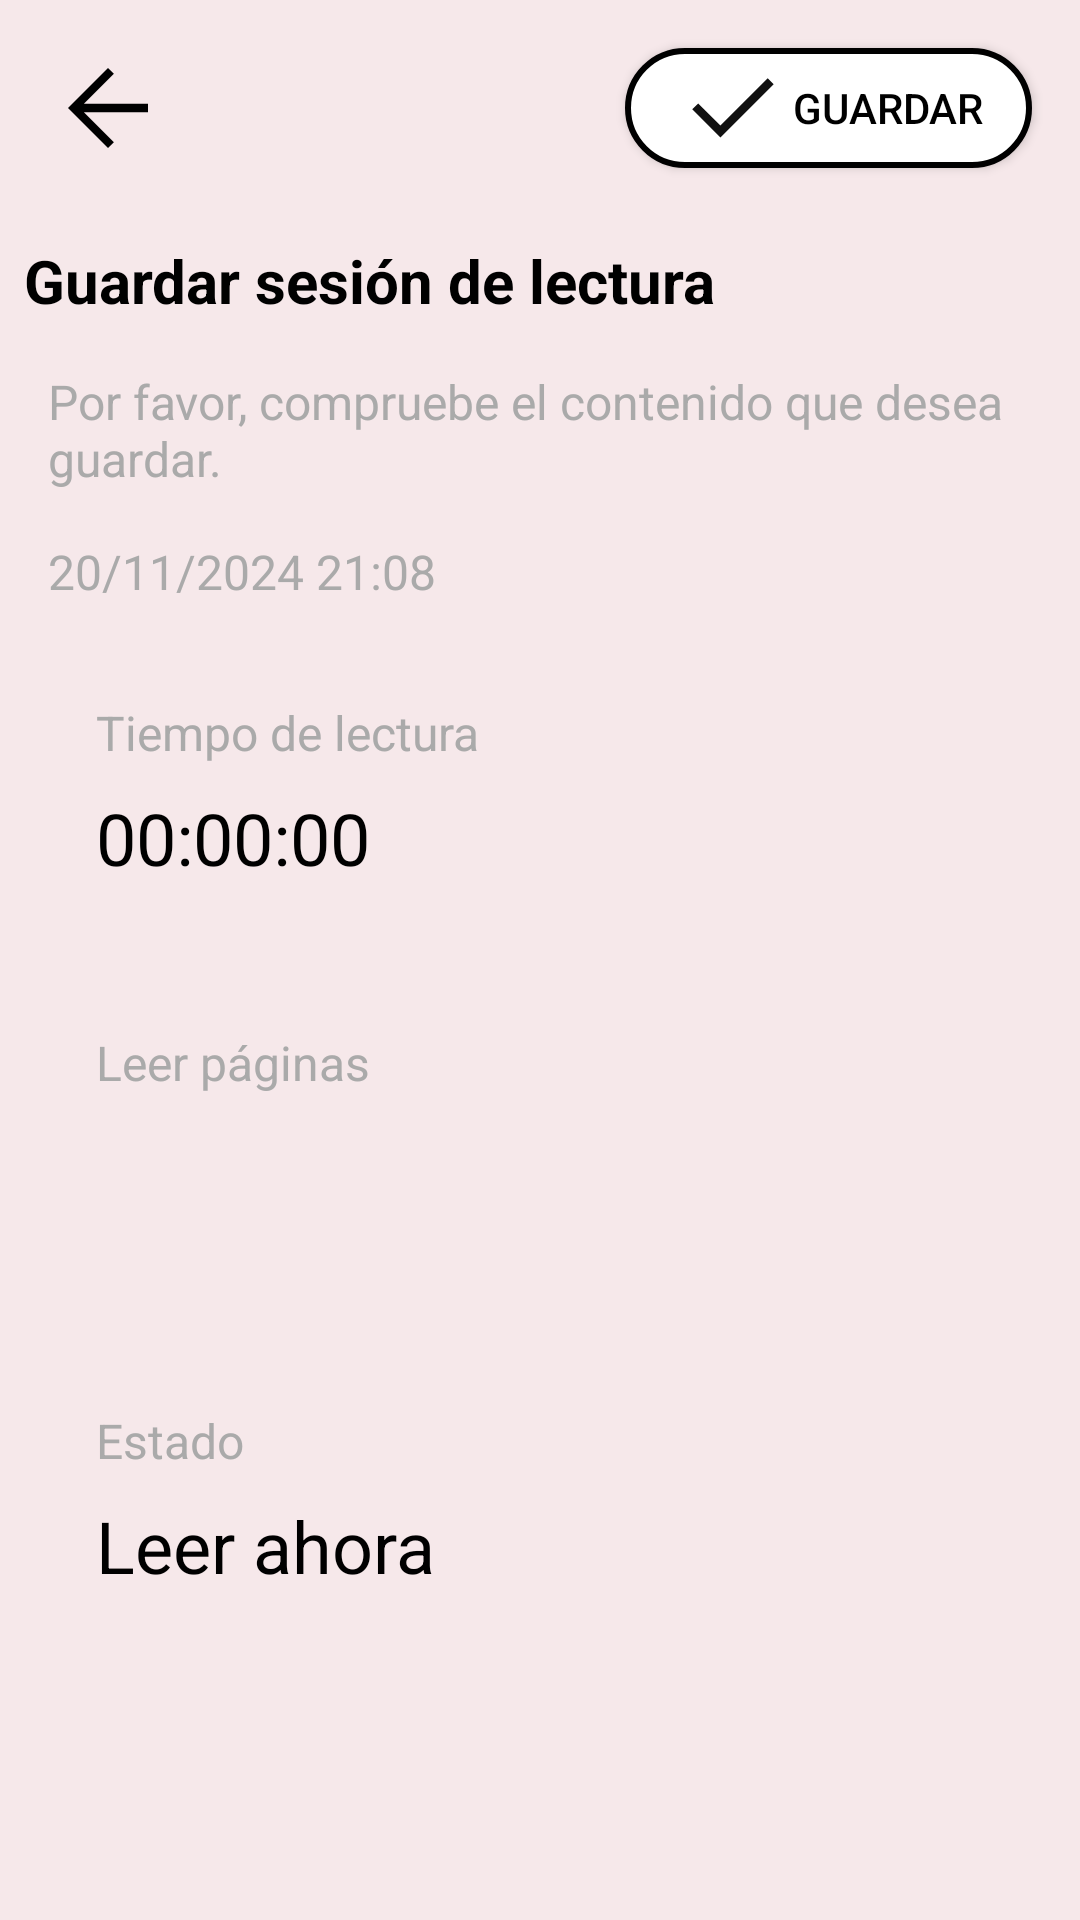

Screen size 1080px x 1920px. Icon name, then its box in pixels as (x1, y1, x2, y2):
Regresar: (68, 68, 148, 148)
